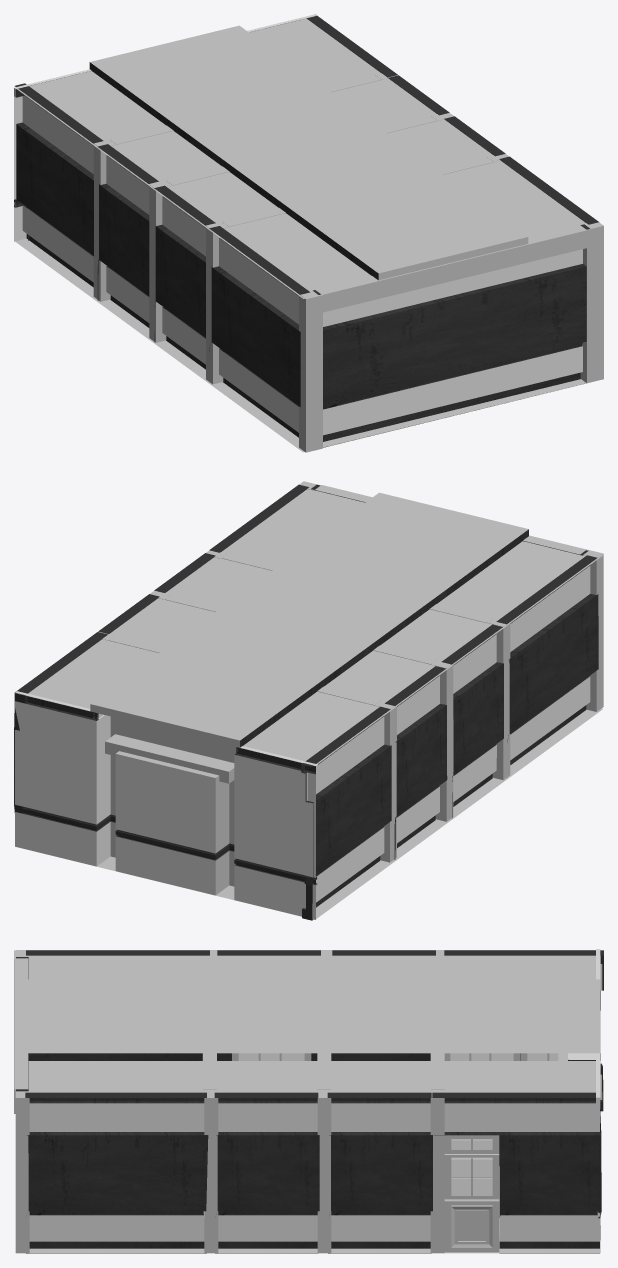
File: dojo.fbx
The picture shows the model from 3 angles, top to bottom: view 1: azimuth 30°, elevation 25°; view 2: azimuth 150°, elevation 25°; view 3: azimuth 270°, elevation 25°; orthographic projection.
Parts seen in each view (by area): view 1: Plane.131, Plane.147, Plane.136, Plane.144, Plane.116, Plane.143, Plane.096, Plane.119, Plane.118, Plane.145, Plane.142, Plane.141 (+24 smaller); view 2: Plane.131, Plane.122, Plane.063, Plane.136, Plane.024, Plane.116, Plane.119, Plane.118, Plane.129, Plane.062, Plane.096, Plane.127 (+27 smaller); view 3: Plane.131, Plane.140, Plane.105, Plane.104, Plane.110, Plane.138, Plane.111, Plane.137, Plane.099, Plane.139, Plane.096, Plane.097 (+21 smaller).
Boxes of the visible parts, bbox=[...] form: Plane.131: bbox=[17, 18, 585, 298]; Plane.147: bbox=[313, 224, 589, 447]; Plane.136: bbox=[209, 226, 309, 406]; Plane.144: bbox=[323, 346, 582, 435]; Plane.116: bbox=[15, 83, 103, 255]; Plane.143: bbox=[315, 225, 587, 312]; Plane.096: bbox=[15, 238, 586, 452]; Plane.119: bbox=[97, 144, 158, 300]; Plane.118: bbox=[154, 185, 215, 342]; Plane.145: bbox=[323, 249, 582, 326]; Plane.142: bbox=[299, 291, 322, 452]; Plane.141: bbox=[580, 222, 603, 383]; Plane.131: bbox=[15, 489, 603, 765]; Plane.122: bbox=[15, 730, 315, 877]; Plane.063: bbox=[15, 701, 315, 919]; Plane.136: bbox=[496, 555, 598, 742]; Plane.024: bbox=[115, 754, 215, 853]; Plane.116: bbox=[301, 706, 391, 920]; Plane.119: bbox=[385, 666, 447, 859]; Plane.118: bbox=[441, 624, 503, 817]; Plane.129: bbox=[115, 836, 215, 895]; Plane.062: bbox=[15, 696, 317, 885]; Plane.096: bbox=[19, 708, 602, 919]; Plane.127: bbox=[116, 721, 229, 852]; Plane.131: bbox=[16, 950, 600, 1097]; Plane.140: bbox=[25, 1092, 208, 1253]; Plane.105: bbox=[432, 1092, 601, 1253]; Plane.104: bbox=[327, 1092, 432, 1253]; Plane.110: bbox=[214, 1092, 319, 1253]; Plane.138: bbox=[29, 1103, 204, 1131]; Plane.111: bbox=[444, 1135, 499, 1253]; Plane.137: bbox=[29, 1215, 204, 1241]; Plane.099: bbox=[444, 1103, 599, 1131]; Plane.139: bbox=[29, 1098, 204, 1248]; Plane.096: bbox=[29, 1111, 600, 1253]; Plane.097: bbox=[218, 1103, 317, 1131].
Bounding box in the file's own units: 256 × 132 × 429.
